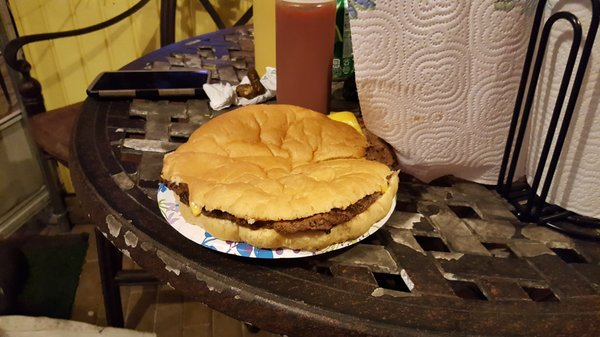pizza: (258, 1, 338, 115)
soup: (159, 102, 400, 254)
